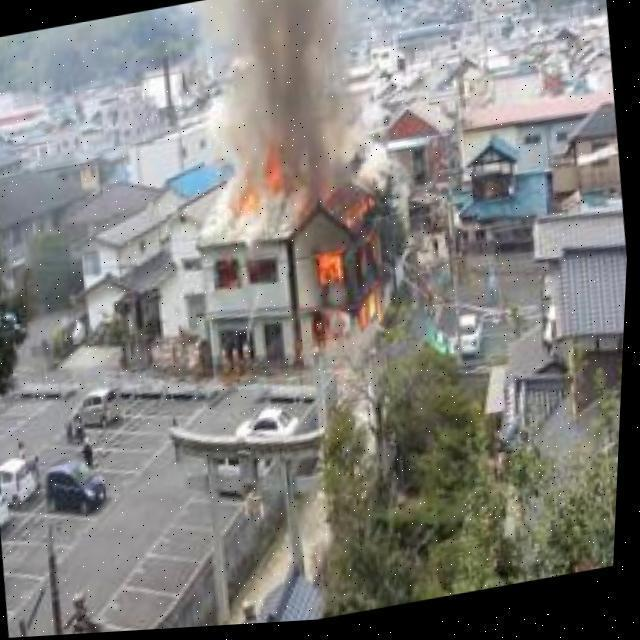fire: (307, 201, 397, 352), (257, 147, 295, 192)
